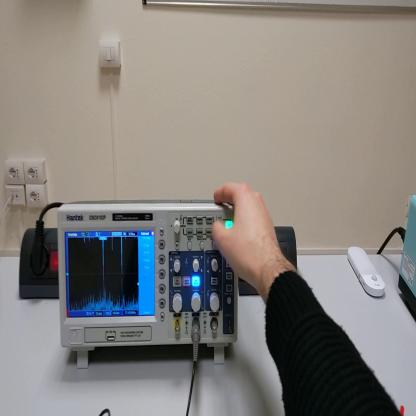hand: (211, 181, 281, 292)
oscilloscope: (59, 201, 240, 369)
socket: (18, 227, 59, 302)
welder station: (401, 193, 415, 323)
